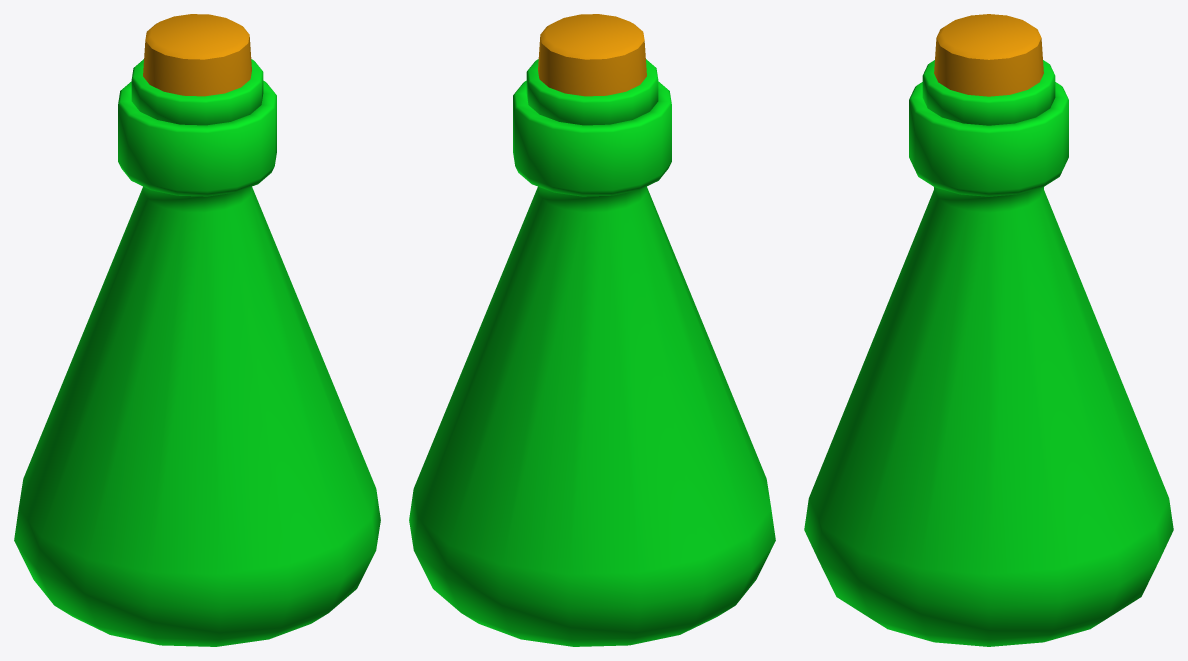
Rendered from FullRestorePotion.fbx.
3 renders of one model, left to right at view 1: azimuth 30°, elevation 25°; view 2: azimuth 150°, elevation 25°; view 3: azimuth 270°, elevation 25°, orthographic.
Parts seen in each view (by area): view 1: Glass, Cork; view 2: Glass, Cork; view 3: Glass, Cork.
Part boxes in pixels (x1,y1,x2,y2): Glass: (14,59,380,646); Cork: (143,14,251,96); Glass: (409,59,775,646); Cork: (538,14,646,96); Glass: (804,60,1173,646); Cork: (934,14,1043,96).
Bounding box in the file's own units: 10.41 × 17.55 × 10.41.
